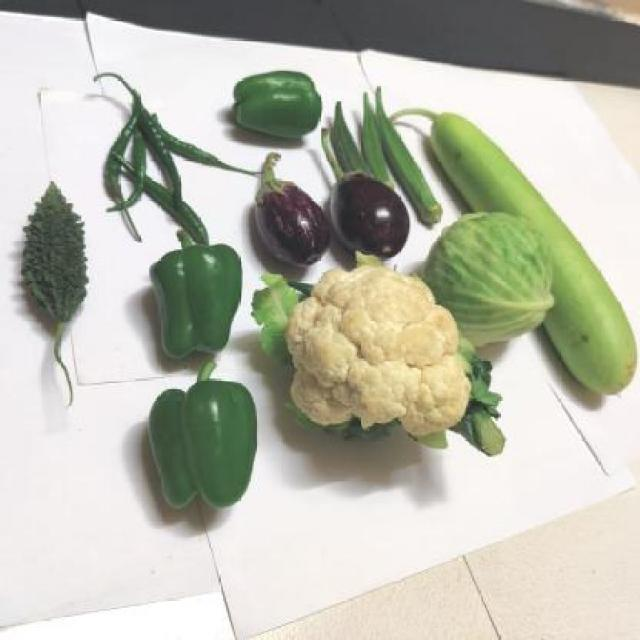Bitter melon: (22, 177, 88, 397)
Brinjal: (253, 152, 329, 260), (328, 161, 410, 257)
Cabbage: (431, 209, 551, 329)
Calabash: (416, 103, 546, 211)
Capsicum: (143, 364, 263, 520), (142, 228, 250, 364), (232, 70, 325, 138)
Cauliflower: (281, 262, 494, 449)
Green Chili: (97, 78, 211, 244)
